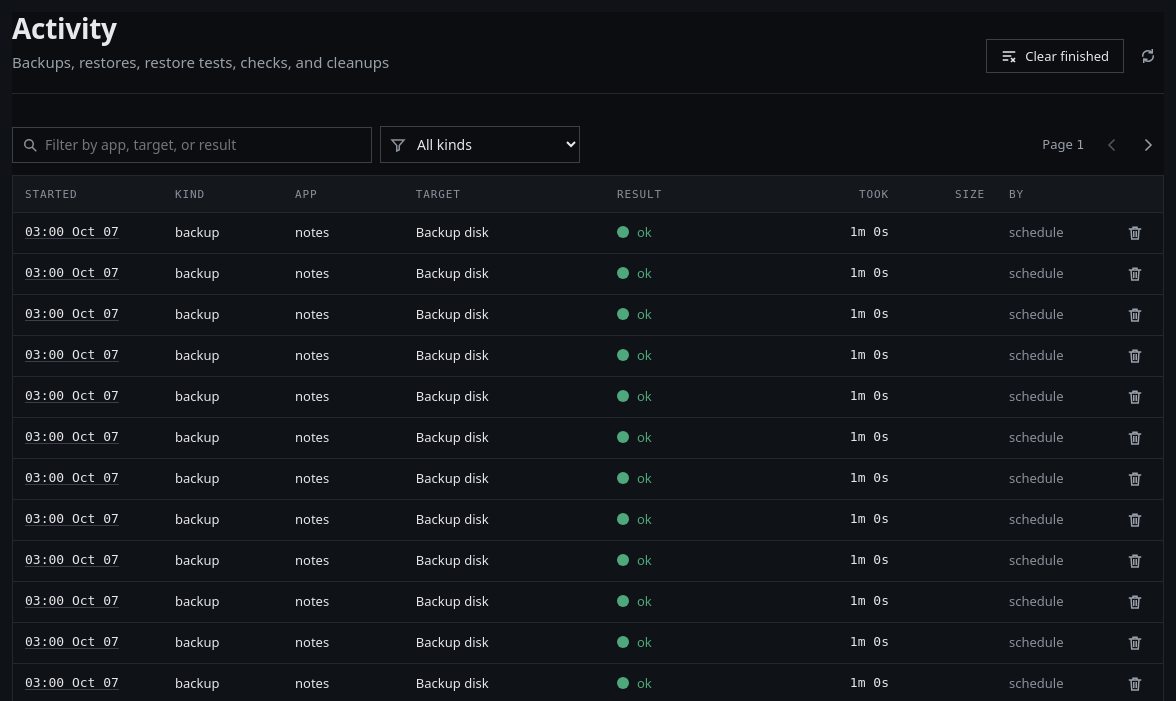
it: pages through older runs 50 at a time
Expected: the button named "Newer runs" is disabled, [1096, 129, 1128, 161]
Click the button named "Older runs": (1148, 145) [1132, 129, 1164, 161]
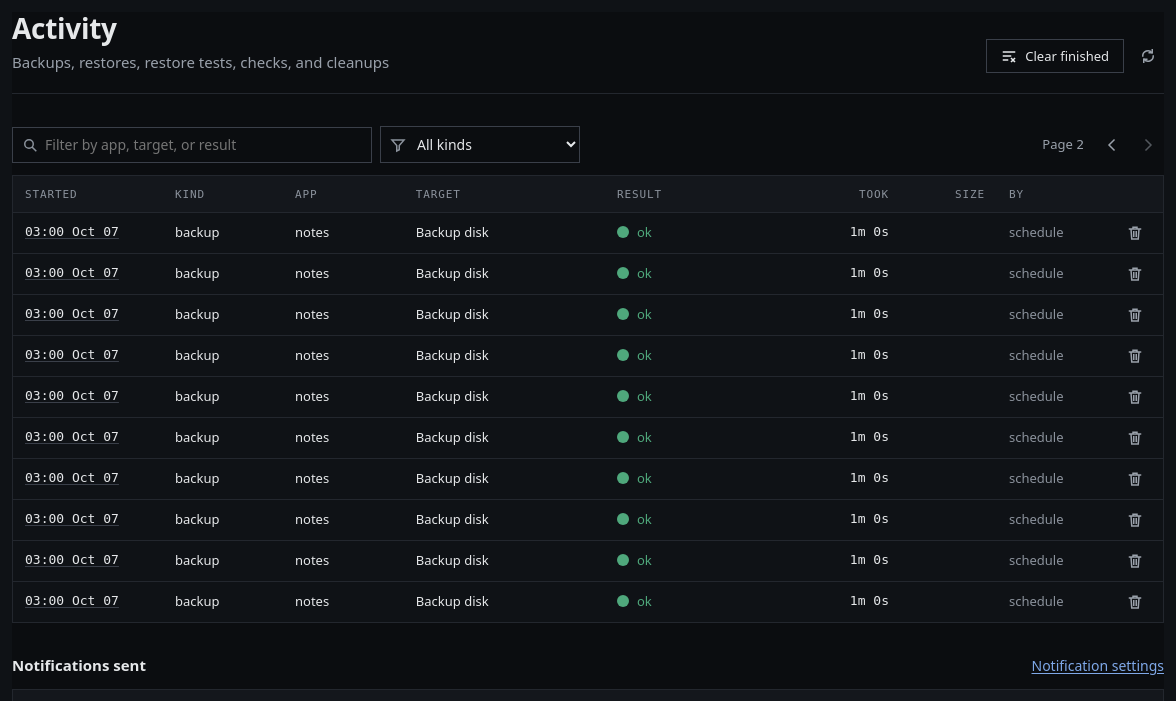
Expected: the button named "Older runs" is disabled, [1132, 129, 1164, 161]
Expected: the button named "Newer runs" is enabled, [1096, 129, 1128, 161]
